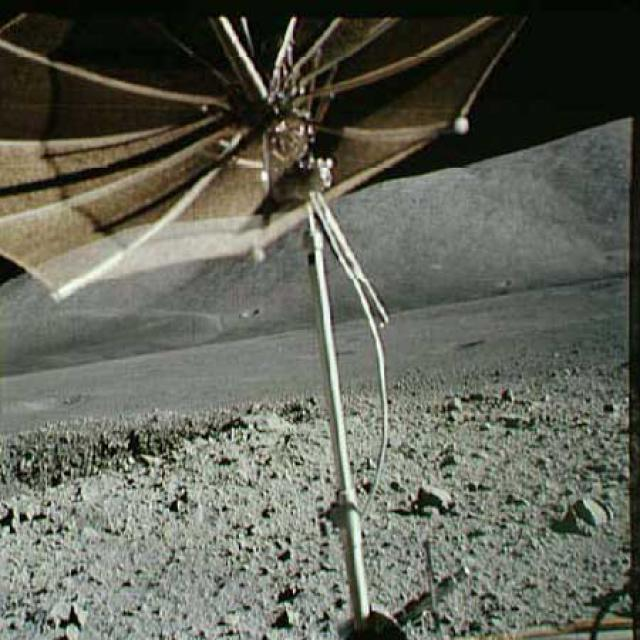artifact: (0, 4, 545, 330), (290, 328, 423, 639)
crater: (0, 408, 257, 503)
rock: (407, 471, 458, 518), (558, 488, 602, 540)
